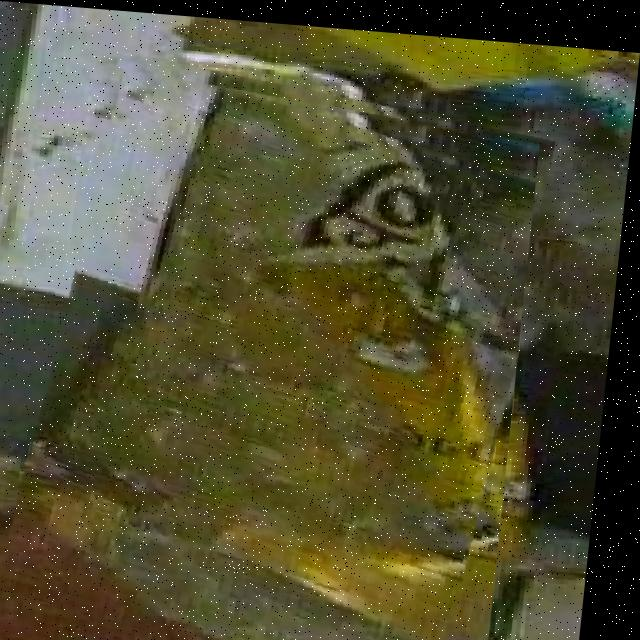litter: (22, 58, 546, 640)
